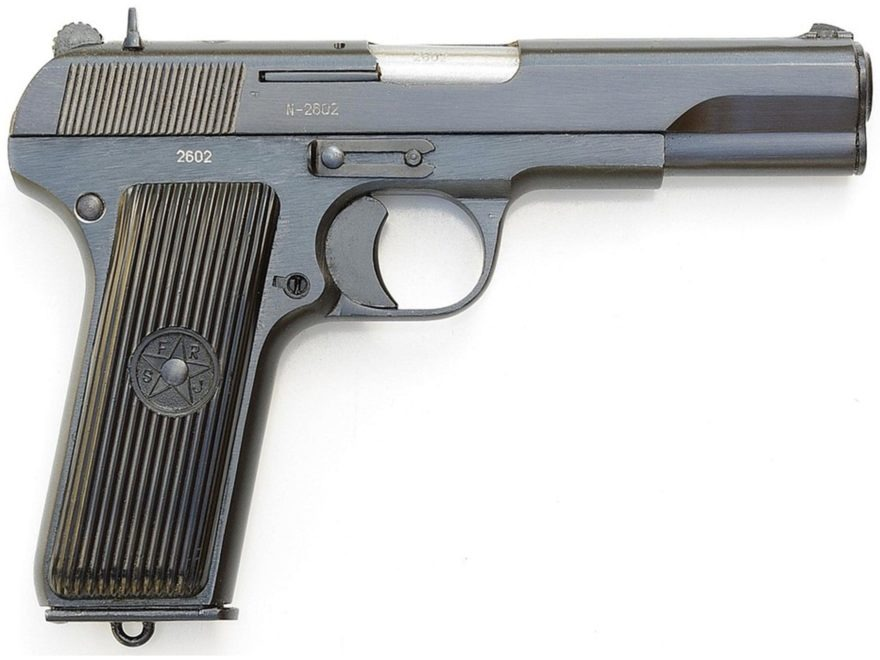gun: (7, 7, 880, 636)
